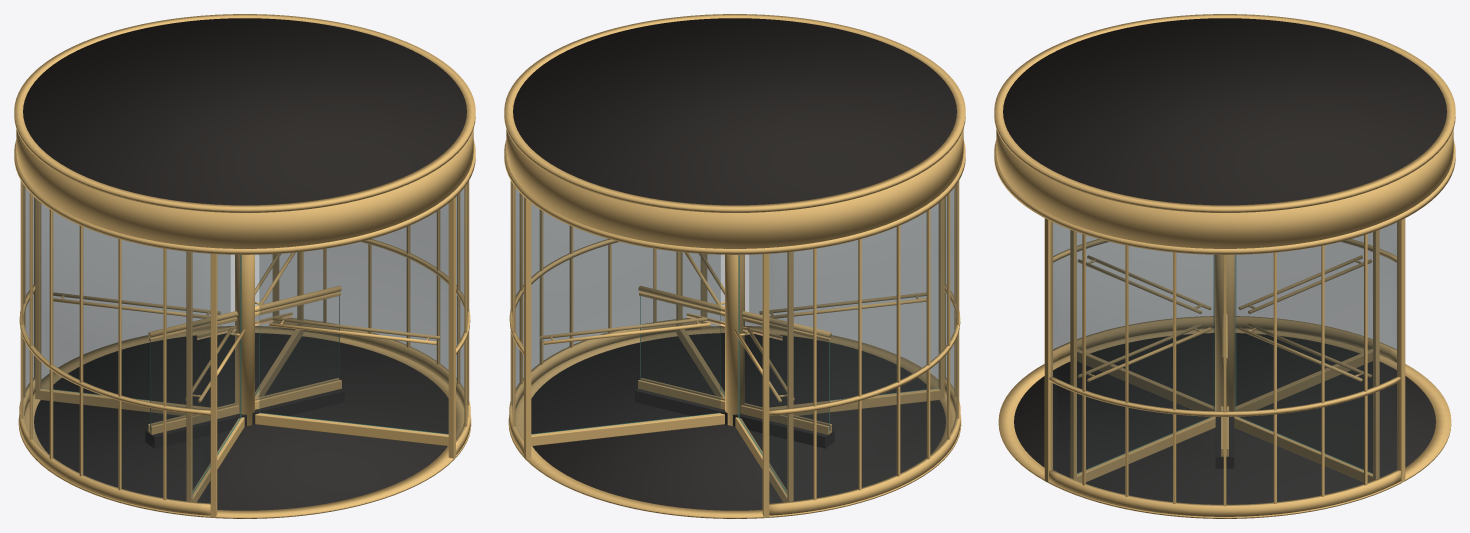
The model's file is props_arch.glb.
3 renders of one model, left to right at view 1: azimuth 30°, elevation 25°; view 2: azimuth 150°, elevation 25°; view 3: azimuth 270°, elevation 25°, orthographic.
Visible parts, largest first — view 1: revolvingDoor, revolvingDoor_wings, glassRailing; view 2: revolvingDoor, revolvingDoor_wings, glassRailing; view 3: revolvingDoor, revolvingDoor_wings, glassRailing.
Part boxes in pixels (bbox=[...]): revolvingDoor: bbox=[14, 14, 475, 518]; revolvingDoor_wings: bbox=[35, 198, 448, 502]; glassRailing: bbox=[145, 286, 344, 448]; revolvingDoor: bbox=[504, 14, 965, 518]; revolvingDoor_wings: bbox=[531, 198, 944, 502]; glassRailing: bbox=[635, 286, 834, 448]; revolvingDoor: bbox=[994, 14, 1455, 518]; revolvingDoor_wings: bbox=[1070, 230, 1379, 482]; glassRailing: bbox=[1215, 314, 1234, 468].
Size of the model in its own units: 4.2 by 3.13 by 4.2.
